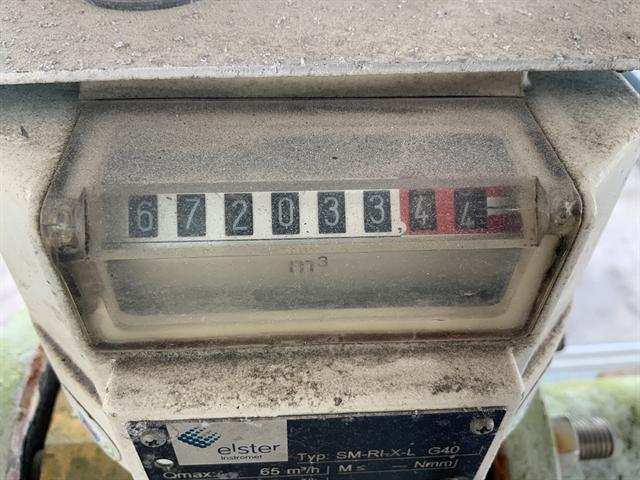analog_dial: (101, 186, 521, 249)
